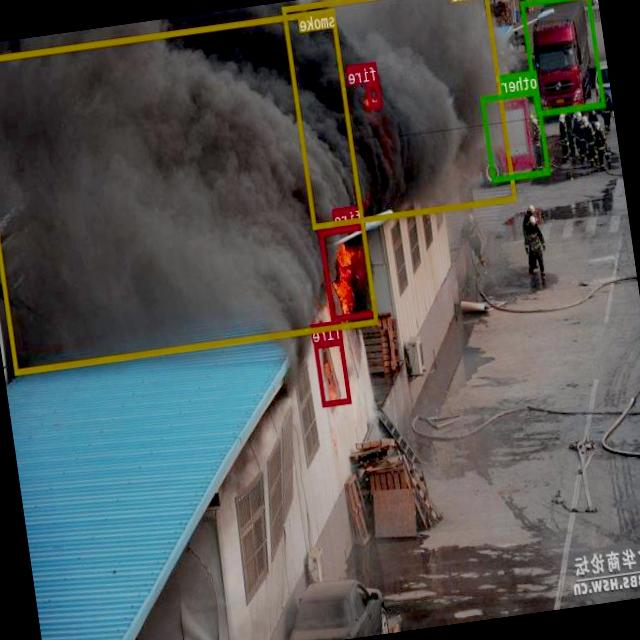fire: (320, 223, 378, 321), (315, 339, 352, 405), (367, 80, 382, 106)
smoke: (0, 7, 379, 373), (282, 0, 517, 228)
